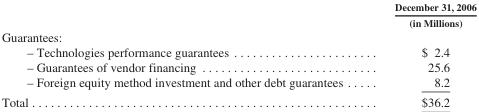table: (0, 1, 475, 109)
table column: (0, 1, 368, 109), (368, 1, 475, 109)
table column header: (0, 1, 475, 28)
table projected row header: (0, 28, 475, 44)
table row: (0, 1, 475, 28), (0, 74, 475, 92), (0, 92, 475, 109), (0, 28, 475, 44), (0, 44, 475, 59), (0, 59, 475, 74)
